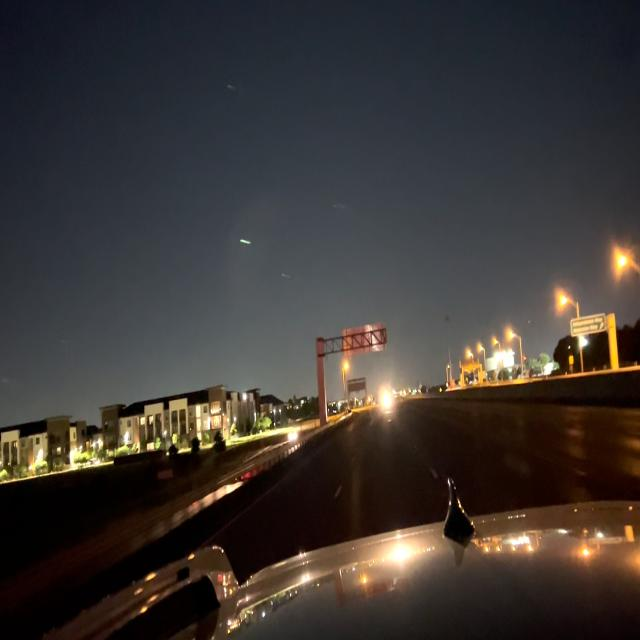back-of-sign: (342, 316, 388, 362)
